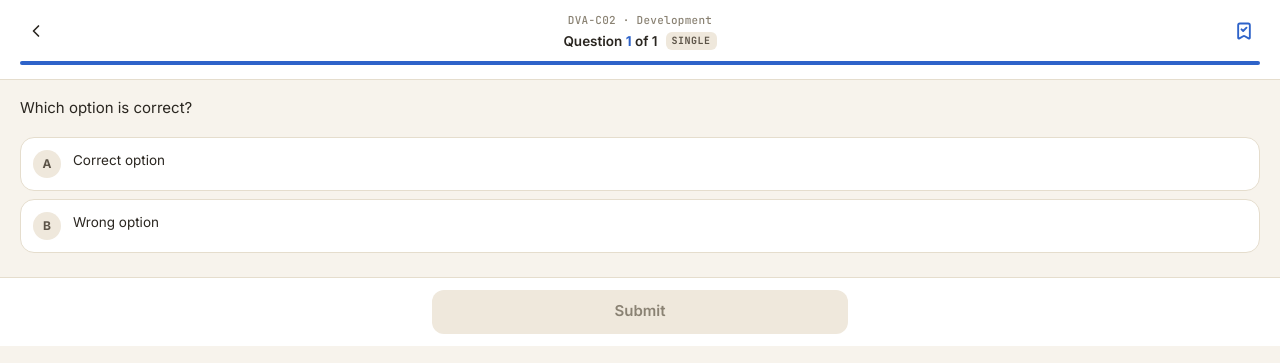
Test: progress page compatibility › requires one selected option before submitting a smart practice single-select question
Expected: the button "Submit" is disabled, 432,290 -> 848,334
What coordinates should you click on to do the following:
click the text "Correct option"
I would click on:
 (119, 160)
Its box is 73,152 -> 165,168.
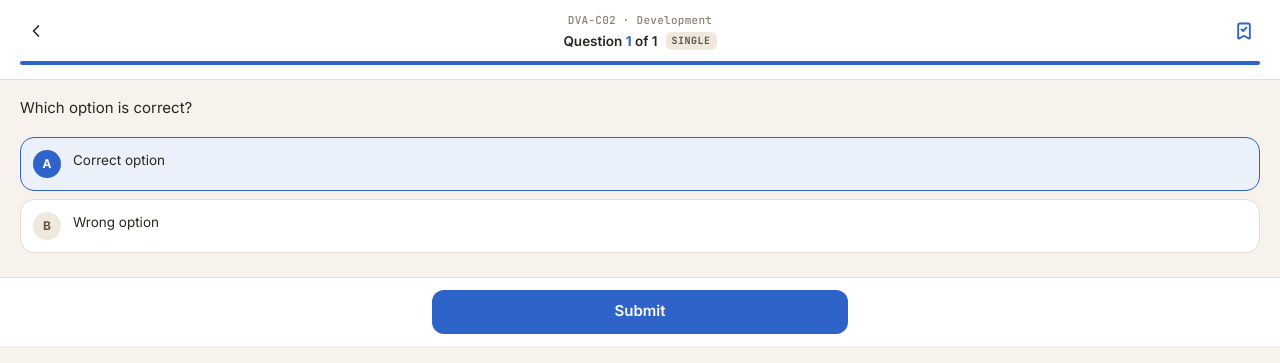
Now the button "Submit" is enabled, box 432,290 -> 848,334
